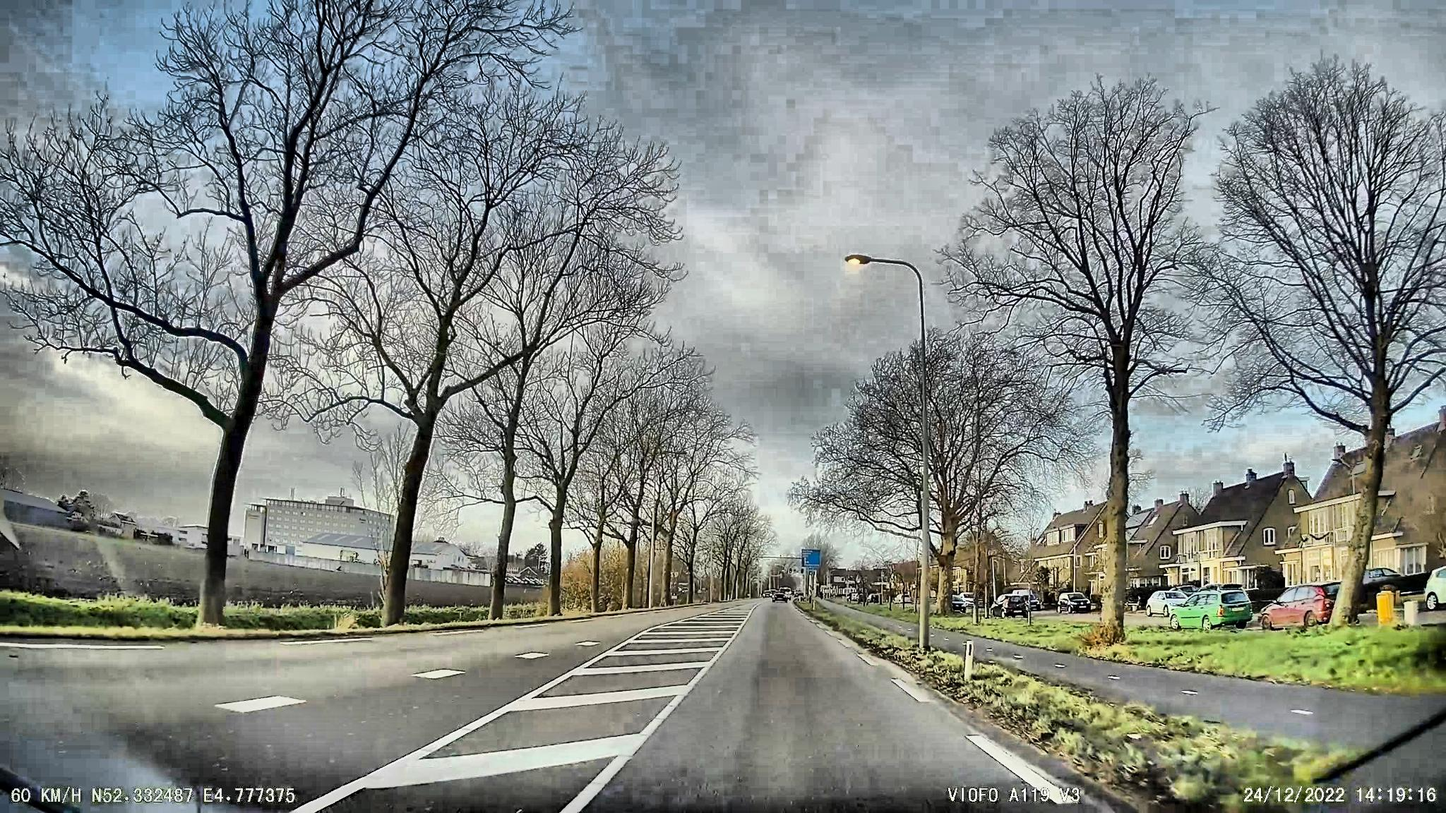Roads: (0, 601, 1140, 813)
